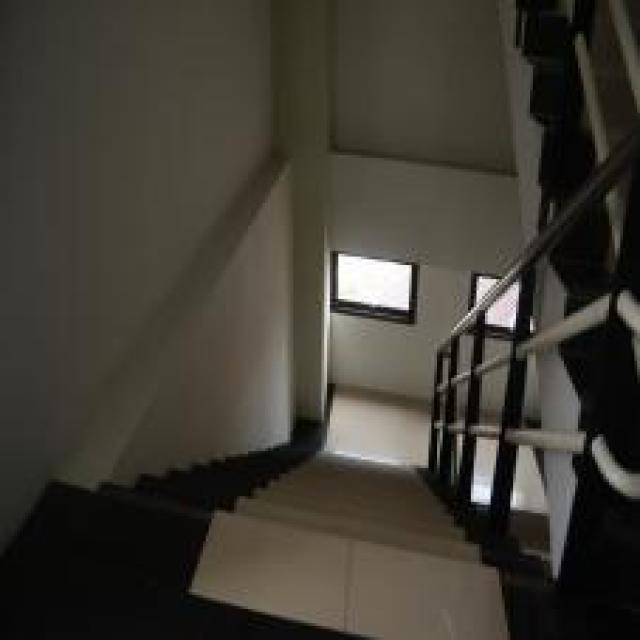downstair: (187, 458, 458, 638)
